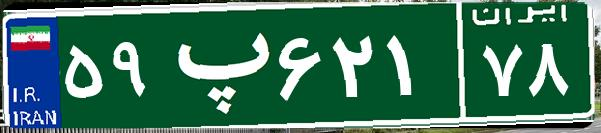1: (385, 28, 445, 110)
2: (330, 28, 385, 110)
5: (57, 26, 110, 107)
6: (273, 28, 330, 110)
7: (475, 38, 525, 113)
8: (525, 38, 570, 115)
9: (110, 28, 158, 105)
پ: (158, 15, 273, 115)
